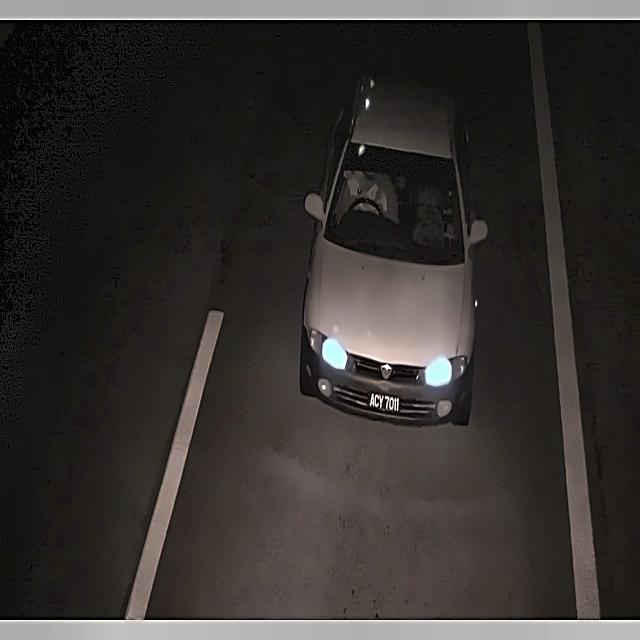car: (363, 387, 407, 421)
